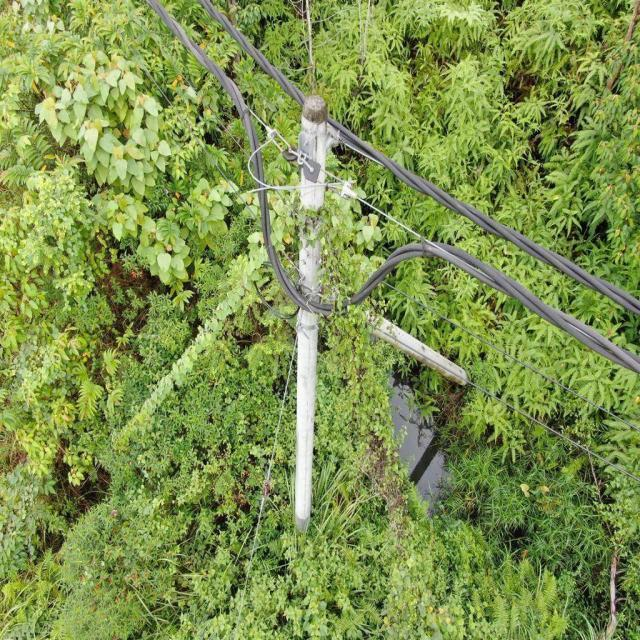critical vegetation: (98, 198, 297, 487)
